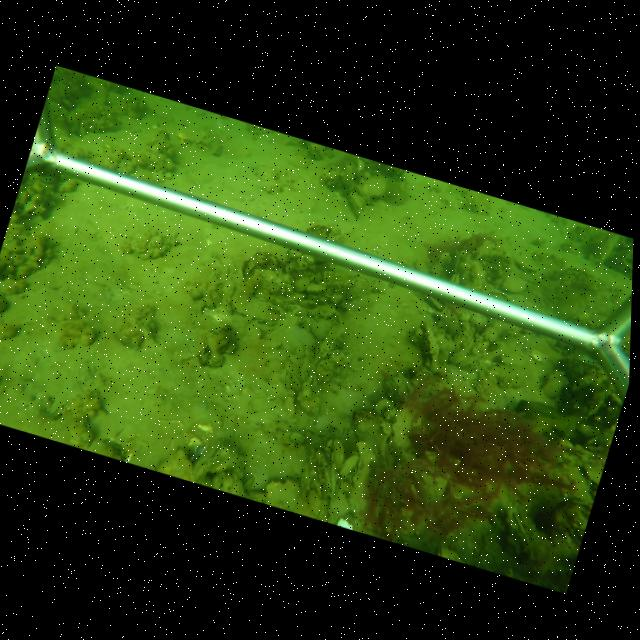Oyster-Closed: (504, 501, 536, 564), (228, 285, 279, 323), (304, 445, 335, 507), (191, 437, 227, 480), (241, 252, 277, 282), (419, 319, 440, 369), (301, 374, 321, 403), (346, 190, 365, 218), (281, 388, 297, 417), (331, 438, 344, 469), (335, 275, 357, 290), (282, 292, 306, 304), (281, 368, 294, 390), (241, 472, 255, 491), (448, 272, 461, 282)
Oyster-Indeterminate: (265, 476, 304, 510), (340, 157, 359, 190)
